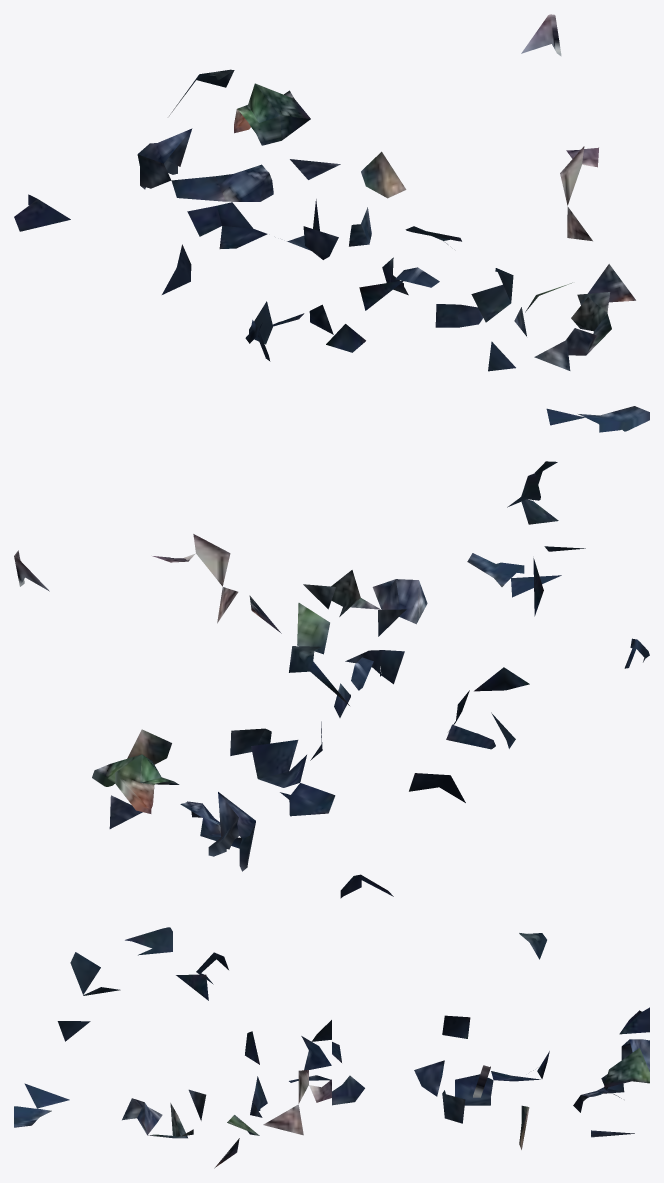
3 views of the same model, one above another, from view 1: azimuth 30°, elevation 25°; view 2: azimuth 150°, elevation 25°; view 3: azimuth 270°, elevation 25° (orthographic). The views are drawn at different scales.
Visible parts, largest first — view 1: 30436272704370414712_1; view 2: 30436272704370414712_1; view 3: 30436272704370414712_1.
Boxes of the visible parts, x1,y1,x2,y2 form: 30436272704370414712_1: [14, 14, 649, 432]; 30436272704370414712_1: [14, 461, 649, 898]; 30436272704370414712_1: [14, 927, 649, 1168].
Bounding box in the file's own units: 27.31 × 9.87 × 38.26.
1 material, 1 textured.
